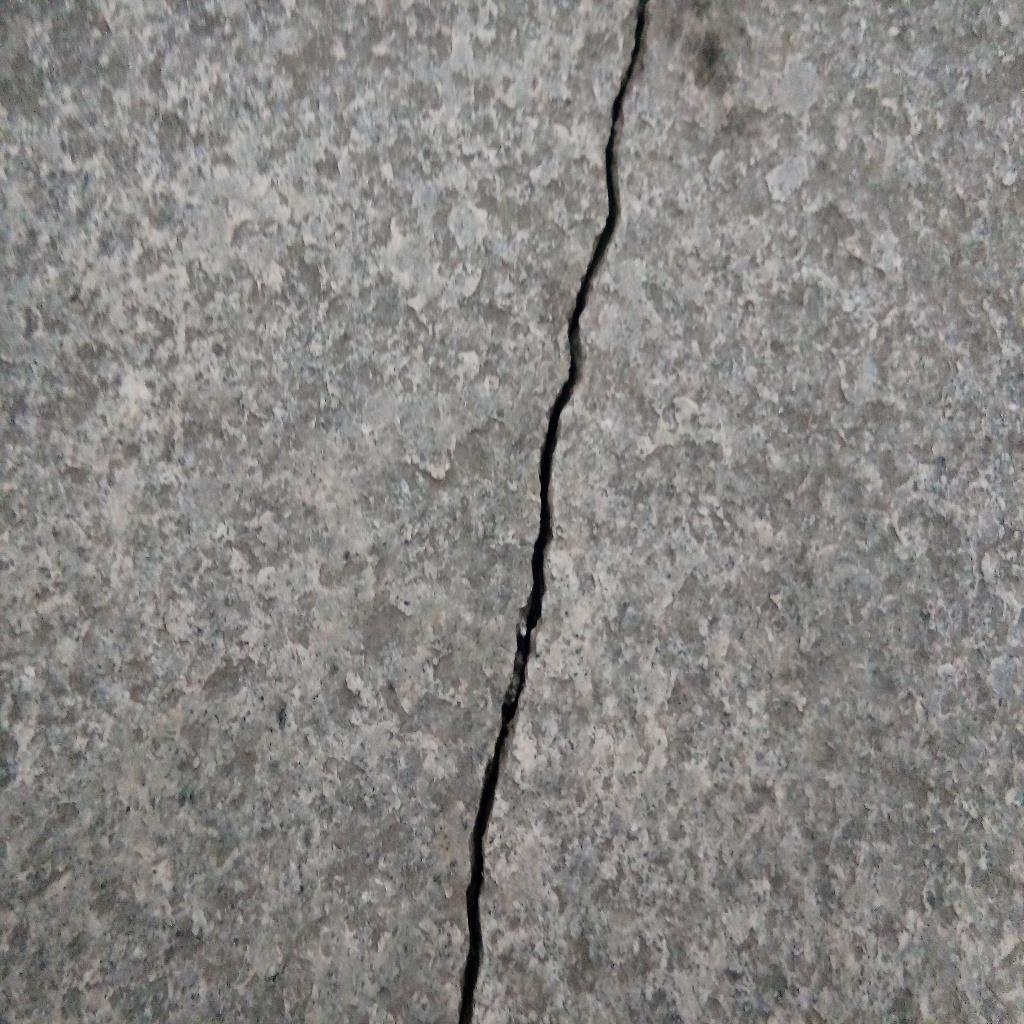Crack: (458, 1, 650, 1024)
